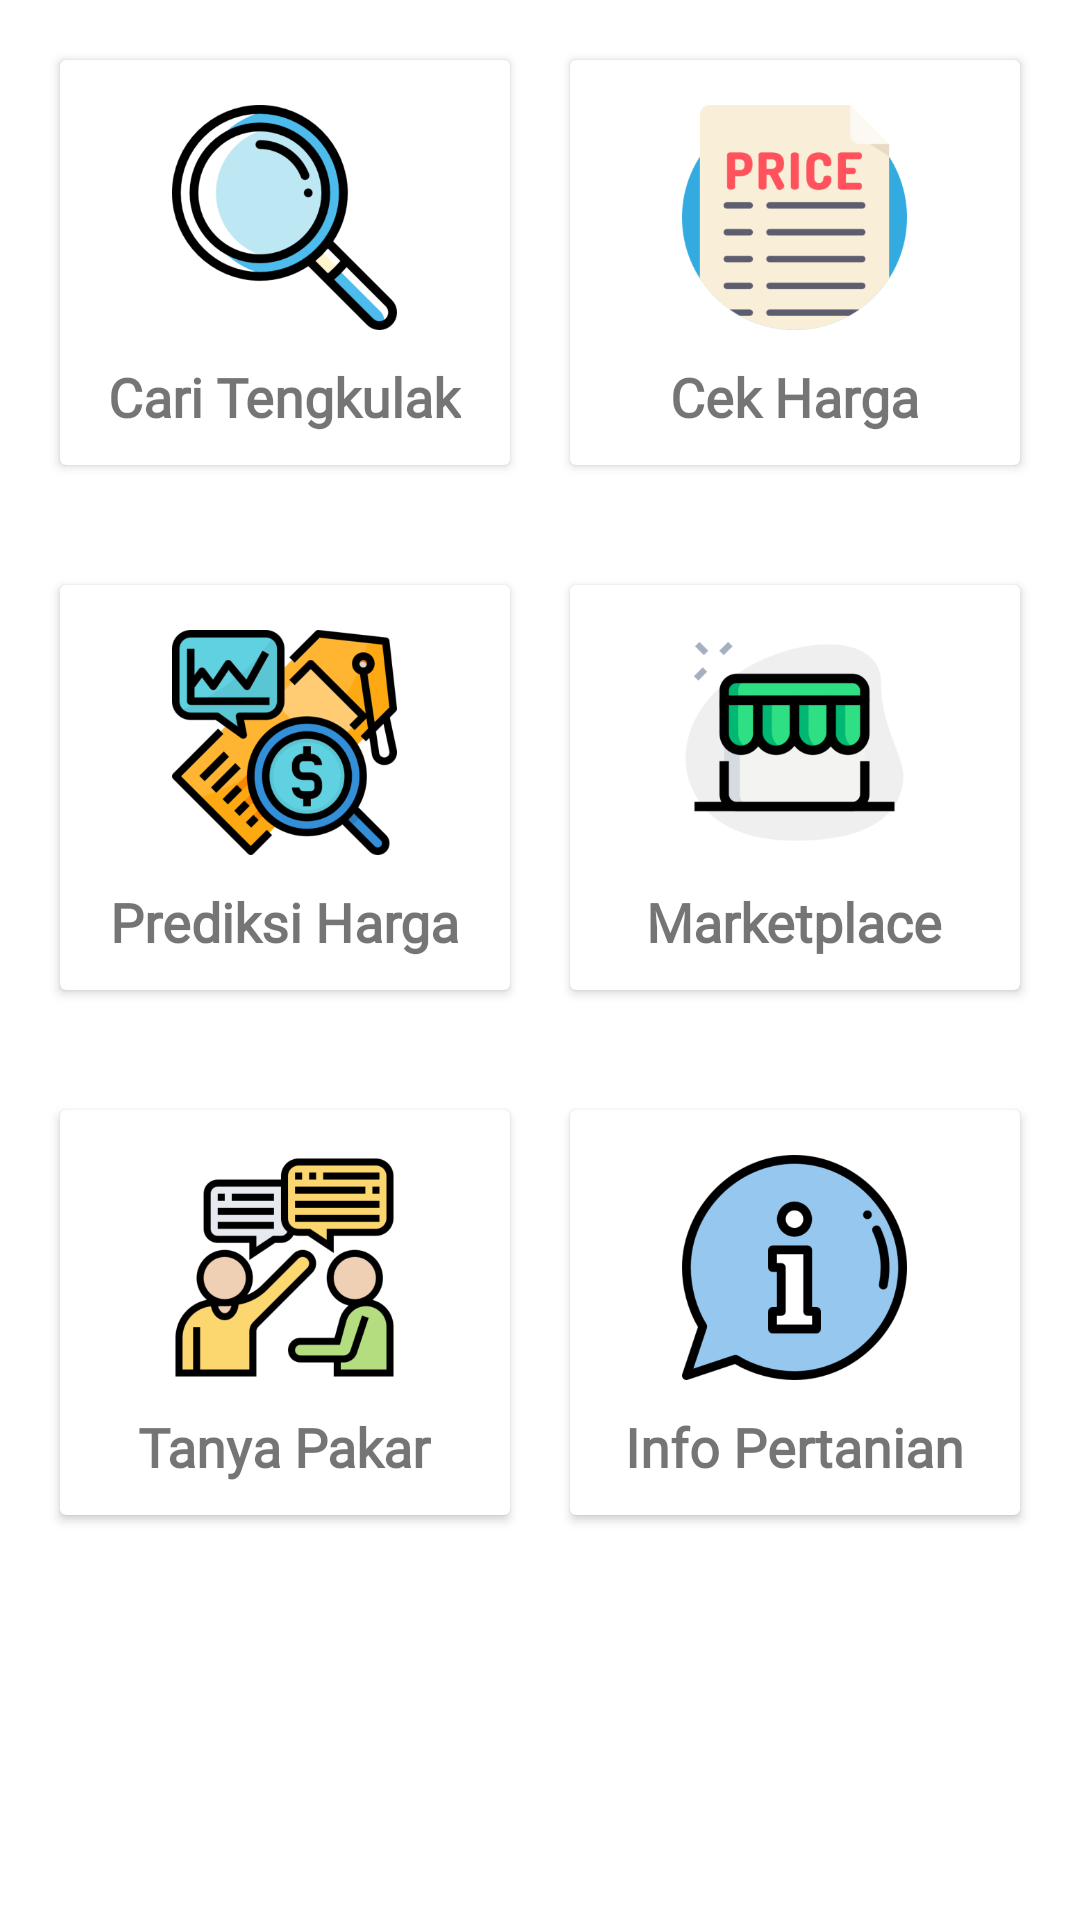

Where icons sit on this 1080 × 1920 app screen, as (x1, y1, x2, y2):
discussion: (175, 1158, 394, 1377)
